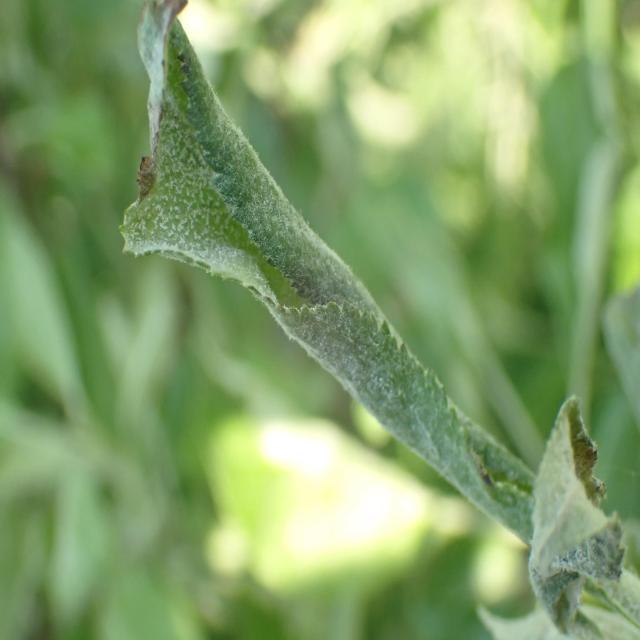Powdery_mildew: (119, 0, 606, 604), (516, 389, 627, 640)
